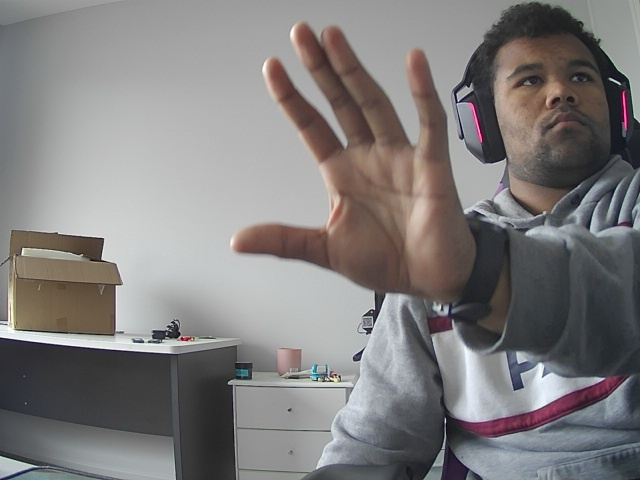Hello: (181, 10, 488, 311)
